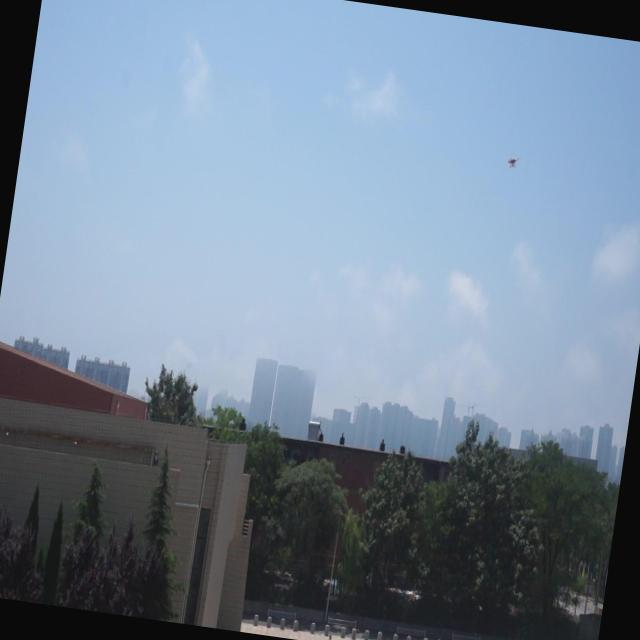drone: (504, 154, 522, 172)
